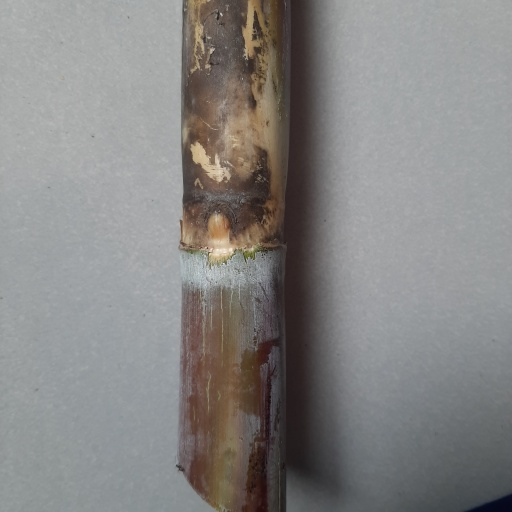Bud: (205, 211, 230, 239)
